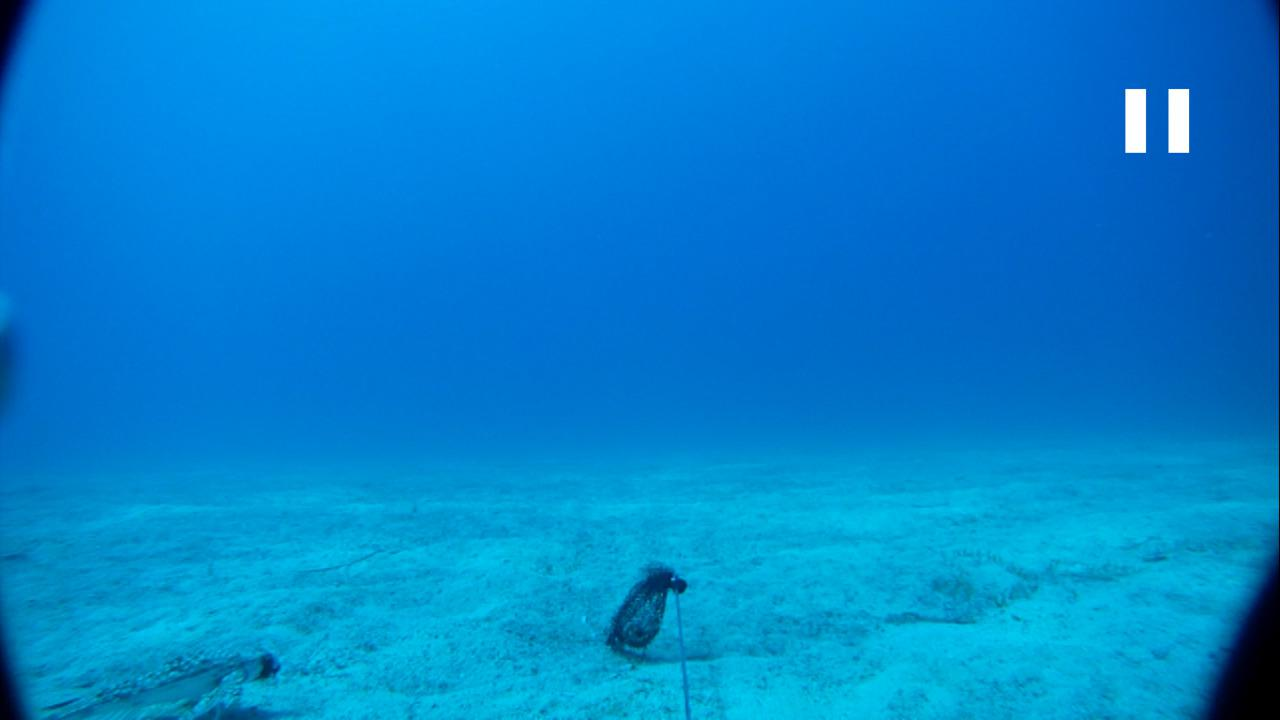dactylopterus: (30, 646, 292, 719)
